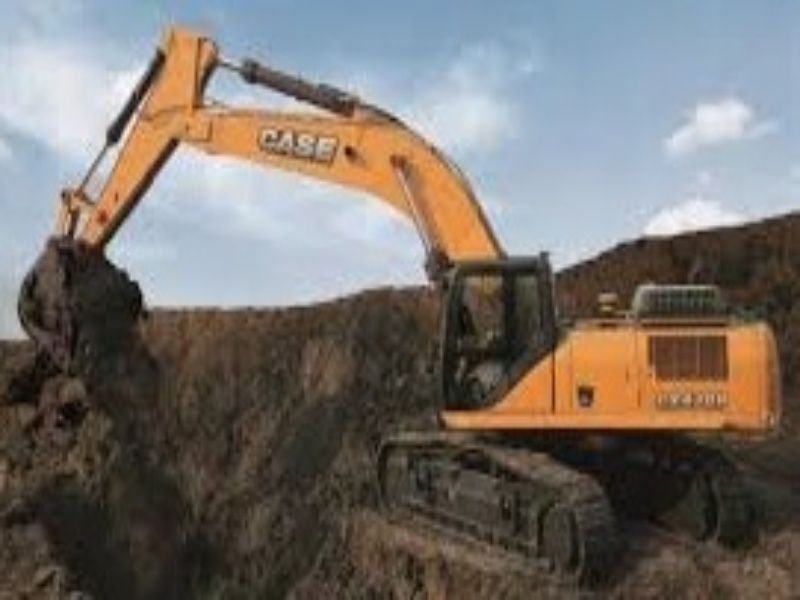wajueji: (308, 114, 800, 581)
